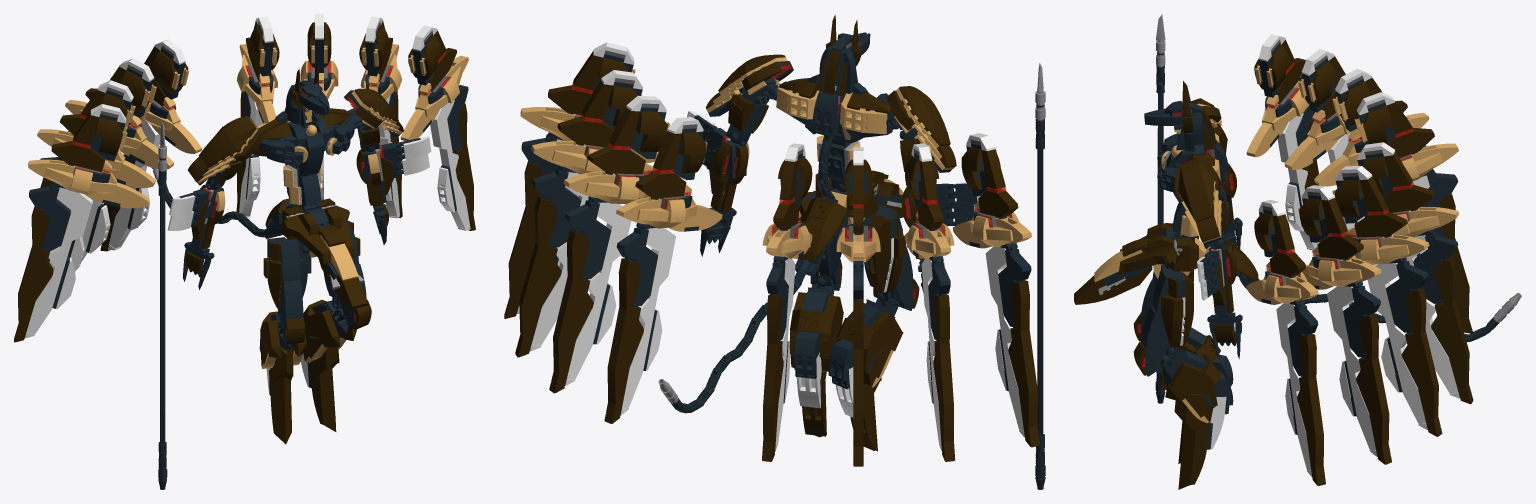
File: anubis.dae
The picture shows the model from 3 angles, left to right: view 1: azimuth 30°, elevation 25°; view 2: azimuth 150°, elevation 25°; view 3: azimuth 270°, elevation 25°; orthographic projection. The views are drawn at different scales.
Bounding box in the file's own units: 1178 × 937 × 918.
